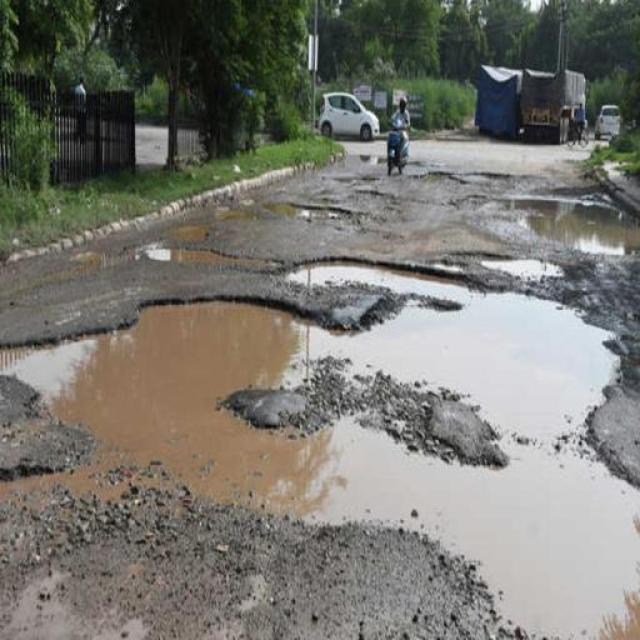puddle: (348, 426, 631, 632), (15, 339, 276, 493), (355, 271, 594, 424), (541, 195, 627, 261)
